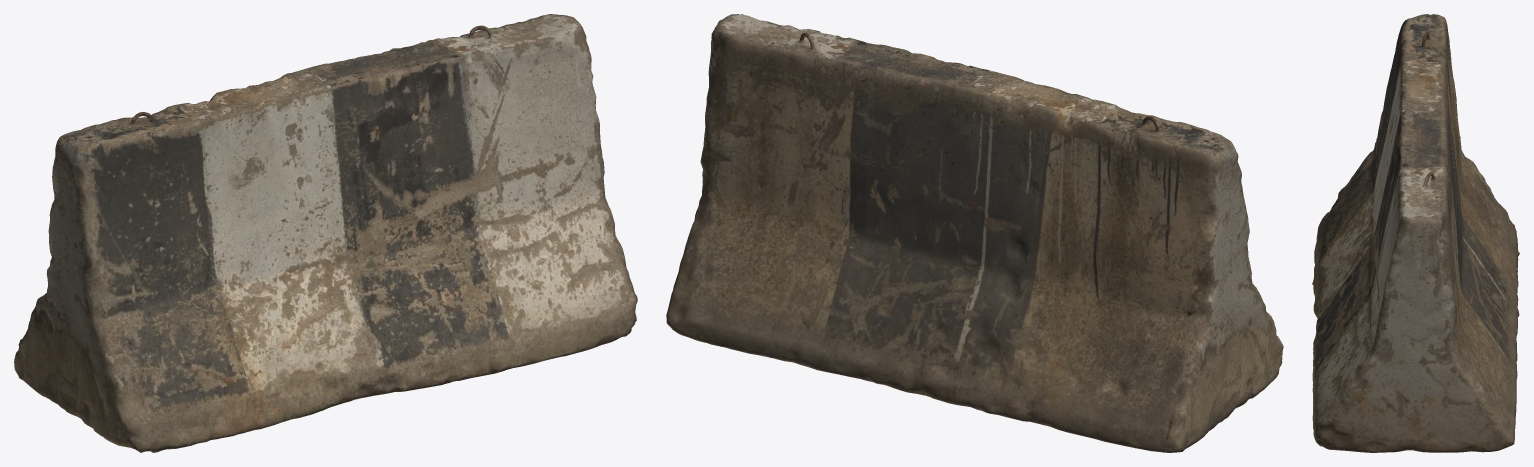
The model's file is concrete_road_barrier.glb.
3 views of the same model, side by side, from view 1: azimuth 30°, elevation 25°; view 2: azimuth 150°, elevation 25°; view 3: azimuth 270°, elevation 25° (orthographic). The views are drawn at different scales.
Visible parts, largest first — view 1: concrete_road_barrier; view 2: concrete_road_barrier; view 3: concrete_road_barrier.
Boxes of the visible parts, box(x1,y1,x2,y2) form: concrete_road_barrier: box(14, 14, 637, 452); concrete_road_barrier: box(666, 14, 1283, 452); concrete_road_barrier: box(1312, 14, 1519, 452).
Bounding box in the file's own units: 1.54 × 0.8311 × 0.6386.
1 material, 1 textured.
